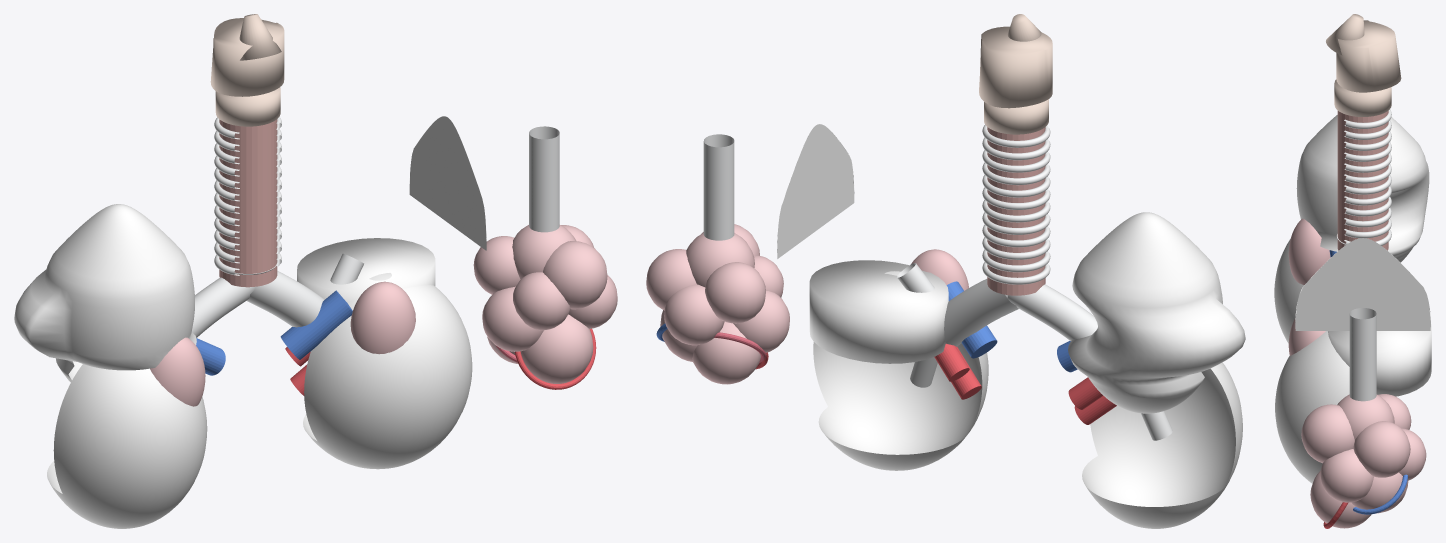
Rendered from lungs_realistic.glb.
The picture shows the model from 3 angles, left to right: view 1: azimuth 30°, elevation 25°; view 2: azimuth 150°, elevation 25°; view 3: azimuth 270°, elevation 25°; orthographic projection. The views are drawn at different scales.
Parts seen in each view (by area): view 1: Left_Superior_Lobe, Right_Inferior_Lobe, Left_Inferior_Lobe, Trachea_Lumen, Right_Superior_Lobe, Right_Middle_Lobe, Thyroid_Cartilage, Right_Alveolar_Balloon, Alveolus_11, Terminal_Bronchiole, Alveolus_4, Right_Primary_Bronchus (+13 smaller); view 2: Left_Superior_Lobe, Left_Inferior_Lobe, Right_Inferior_Lobe, Right_Middle_Lobe, Right_Superior_Lobe, Thyroid_Cartilage, Trachea_Lumen, Terminal_Bronchiole, Alveolus_3, Right_Primary_Bronchus, Alveolus_10, Alveolus_8 (+10 smaller); view 3: Right_Superior_Lobe, Left_Superior_Lobe, Right_Inferior_Lobe, Right_Middle_Lobe, Trachea_Lumen, Thyroid_Cartilage, Terminal_Bronchiole, Alveolus_2, Alveolus_4, Alveolus_6, Left_Alveolar_Balloon, Left_Inferior_Lobe (+20 smaller).
Boxes of the visible parts, x1,y1,x2,y2 form: Left_Superior_Lobe: (14,204,196,382); Right_Inferior_Lobe: (303,273,472,469); Left_Inferior_Lobe: (47,364,207,528); Trachea_Lumen: (219,119,277,287); Right_Superior_Lobe: (409,116,486,250); Right_Middle_Lobe: (297,238,435,302); Thyroid_Cartilage: (210,18,284,96); Right_Alveolar_Balloon: (350,281,415,354); Alveolus_11: (520,314,593,383); Terminal_Bronchiole: (529,126,559,232); Alveolus_4: (543,241,607,309); Right_Primary_Bronchus: (246,271,324,327); Left_Superior_Lobe: (1068,212,1245,413); Left_Inferior_Lobe: (1082,362,1242,528); Right_Inferior_Lobe: (813,271,988,470); Right_Middle_Lobe: (809,260,948,363); Right_Superior_Lobe: (777,124,854,258); Thyroid_Cartilage: (979,26,1052,108); Trachea_Lumen: (987,127,1045,295); Terminal_Bronchiole: (703,134,734,240); Alveolus_3: (705,262,765,323); Right_Primary_Bronchus: (944,279,1018,346); Alveolus_10: (692,321,760,384); Alveolus_8: (664,284,724,345); Right_Superior_Lobe: (1295,238,1430,330); Left_Superior_Lobe: (1296,115,1429,262); Right_Inferior_Lobe: (1275,331,1349,483); Right_Middle_Lobe: (1328,324,1431,396); Trachea_Lumen: (1337,110,1388,250); Thyroid_Cartilage: (1336,20,1401,92); Terminal_Bronchiole: (1349,308,1376,401); Alveolus_2: (1353,421,1410,477); Alveolus_4: (1301,404,1354,463); Alveolus_6: (1320,449,1373,502); Left_Alveolar_Balloon: (1288,218,1330,284); Left_Inferior_Lobe: (1274,238,1304,343).
Bounding box in the file's own units: 7.85 × 6.16 × 2.09.
